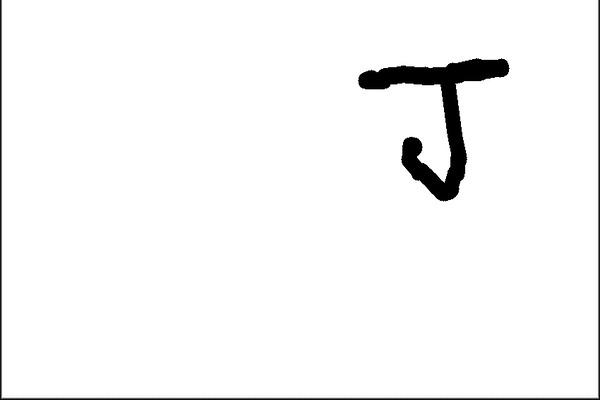J: (352, 53, 513, 204)
